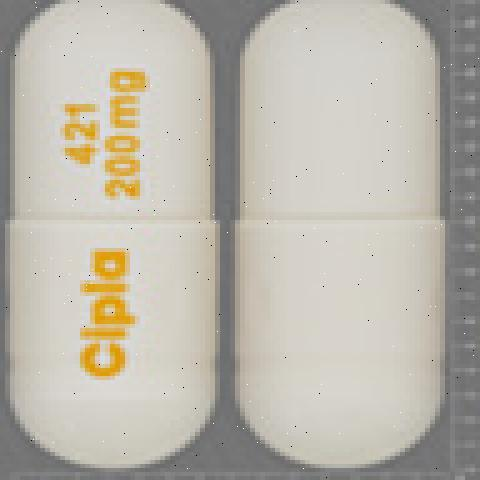Pill: (0, 0, 228, 470), (229, 0, 456, 472)
